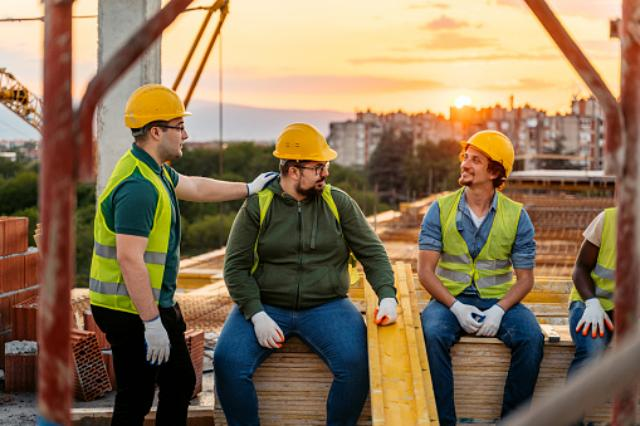helmet: (126, 82, 188, 124), (461, 126, 513, 176), (276, 120, 334, 164)
vest: (94, 150, 176, 308), (258, 185, 356, 287), (438, 198, 518, 300), (578, 207, 614, 309)
